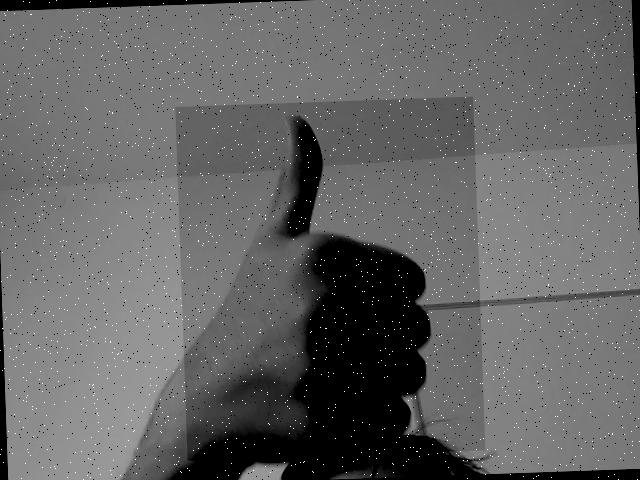good: (175, 96, 486, 460)
